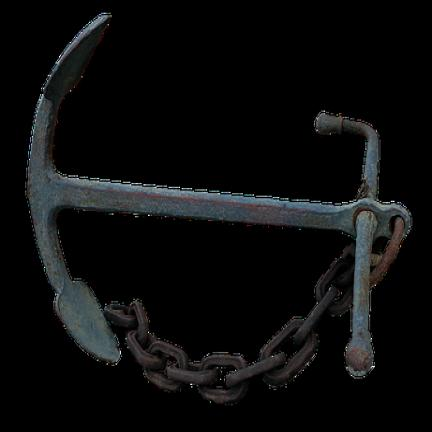besi_tidak_karat: (27, 14, 412, 402)
